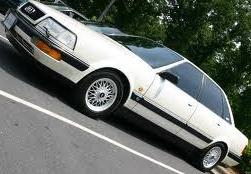front_view: (5, 0, 81, 84)
headlight: (36, 16, 79, 52)
side_glass: (159, 57, 233, 125)
